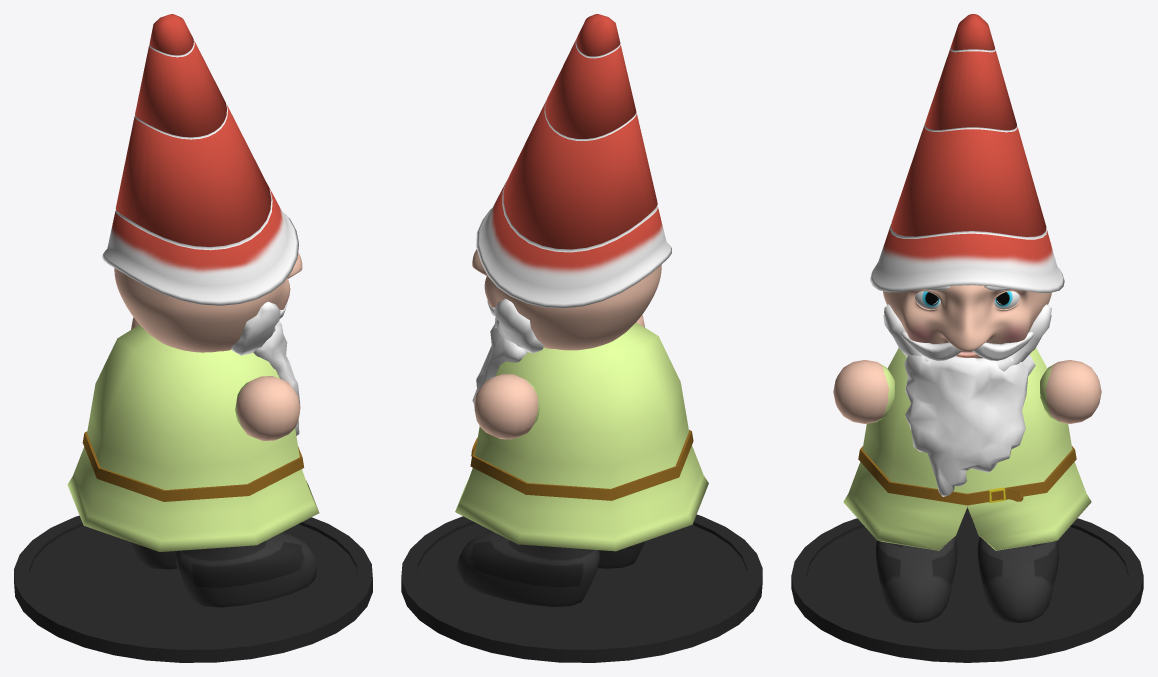
Rendered from GnomeFullCharacter.fbx.
3 renders of one model, left to right at view 1: azimuth 30°, elevation 25°; view 2: azimuth 150°, elevation 25°; view 3: azimuth 270°, elevation 25°, orthographic. The views are drawn at different scales.
Parts seen in each view (by area): view 1: Gnome; view 2: Gnome; view 3: Gnome.
Part boxes in pixels (bbox=[...]): Gnome: bbox=[14, 14, 372, 662]; Gnome: bbox=[401, 14, 762, 662]; Gnome: bbox=[791, 14, 1143, 662].
Size of the model in its own units: 4.84 by 4.84 by 8.54.
Materials: 2 (2 with a texture image).
